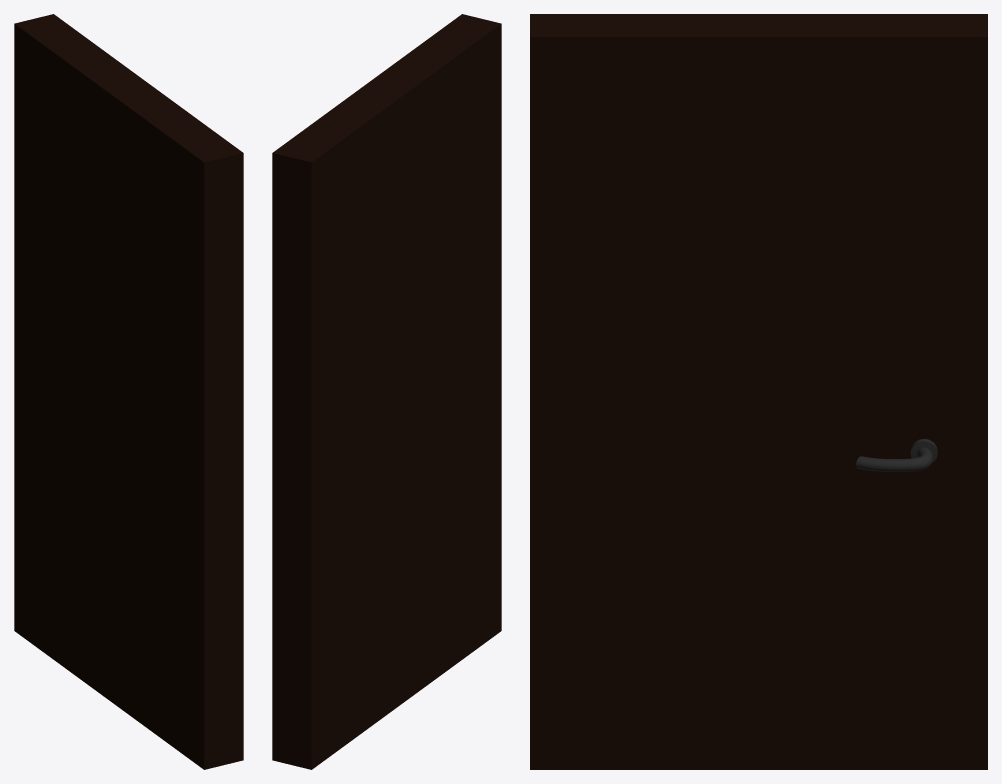
File: Door.dae
3 views of the same model, side by side, from view 1: azimuth 30°, elevation 25°; view 2: azimuth 150°, elevation 25°; view 3: azimuth 270°, elevation 25° (orthographic). The views are drawn at different scales.
Visible parts, largest first — view 1: pCube3; view 2: pCube3; view 3: pCube3.
Boxes of the visible parts, bbox=[...] form: pCube3: bbox=[14, 14, 243, 769]; pCube3: bbox=[272, 14, 501, 769]; pCube3: bbox=[530, 14, 987, 769].
Bounding box in the file's own units: 2.97 × 24.65 × 13.96.
